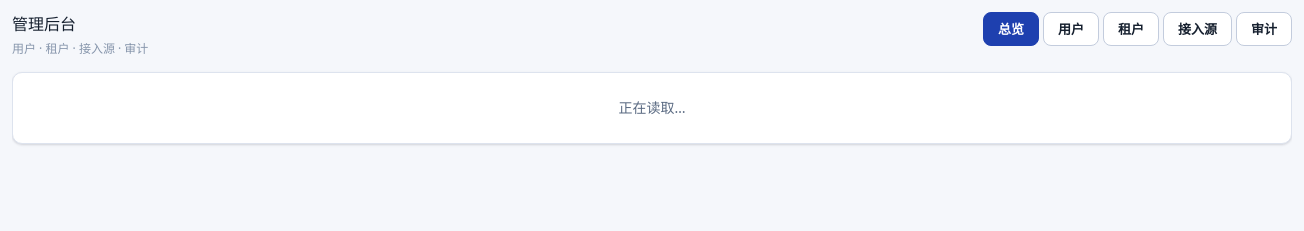
Test: 管理后台页 › 用户列表要显示用户名、角色和状态
# 默认停在「总览」—— 要切到「用户」标签才有表格
Click the button "用户" at (1071, 29), box [1043, 12, 1099, 46]
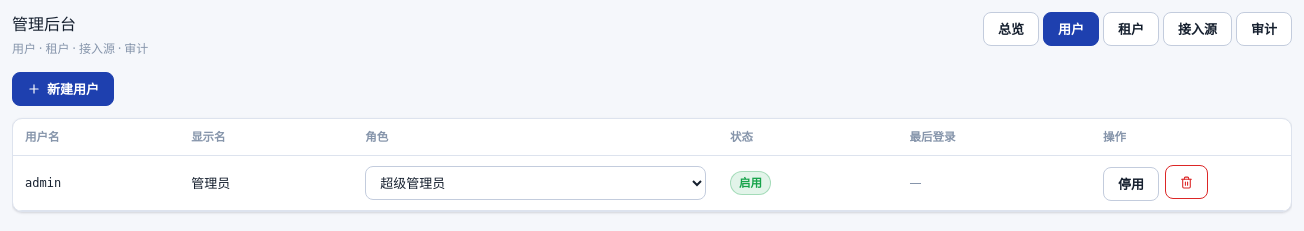
Expected: the text "admin" is shown, [13, 156, 179, 210]
Expected: the text "管理员" is shown, [179, 156, 353, 210]
Expected: the text "启用" is shown, [730, 171, 771, 195]
